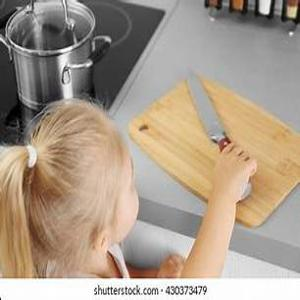sharptool: (180, 62, 251, 192)
